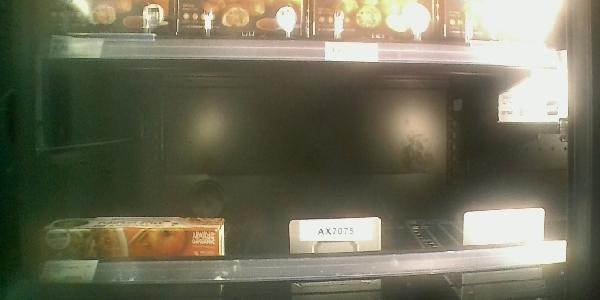icecream: (36, 214, 231, 269)
